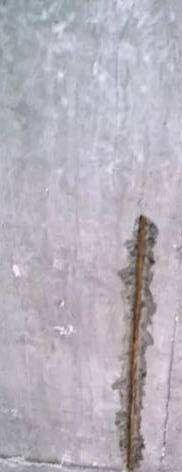Exposed reinforcement: (124, 215, 146, 472)
Spalling: (111, 214, 160, 472)
